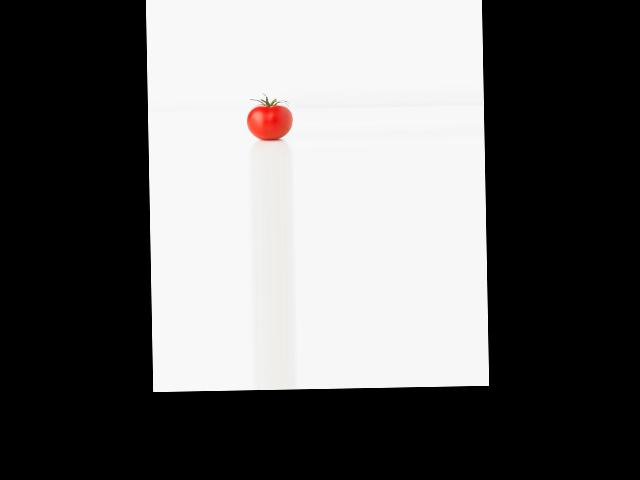tomato: (246, 105, 292, 139)
